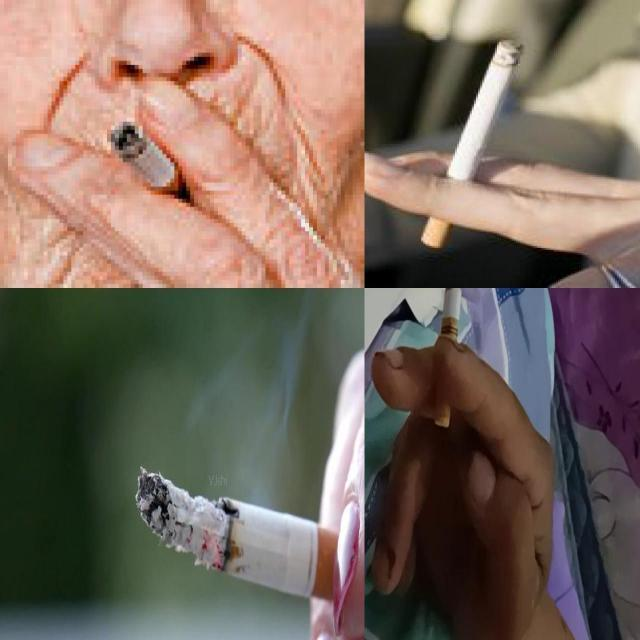rokok: (134, 464, 364, 616), (420, 37, 524, 251), (106, 118, 190, 202), (432, 288, 464, 428)
